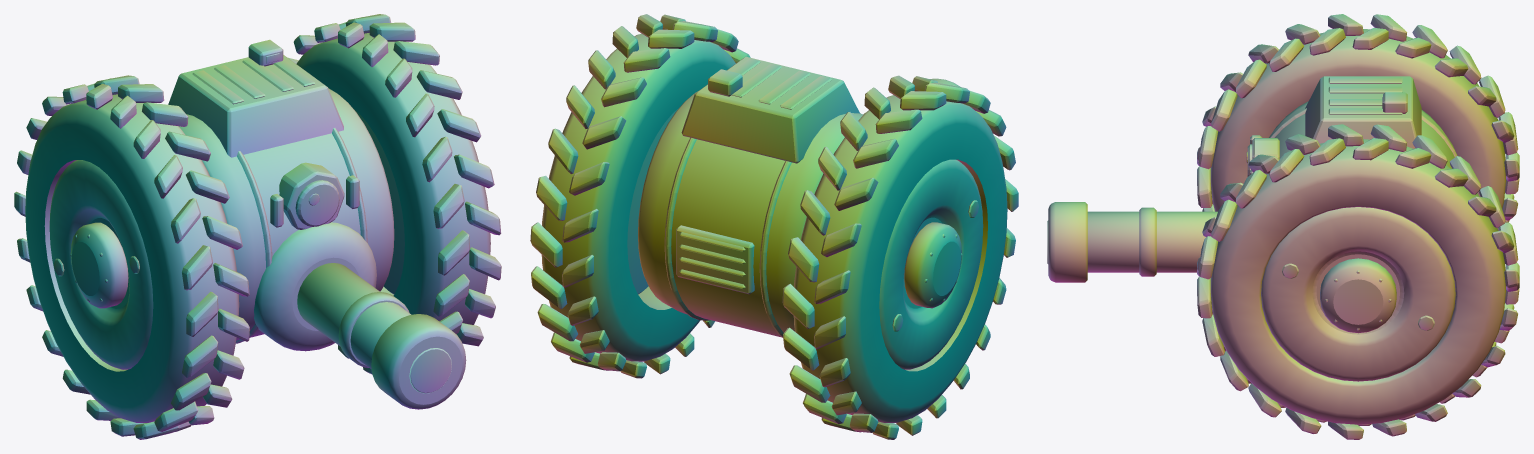
Rendered from battlewheel_rig.glb.
The picture shows the model from 3 angles, left to right: view 1: azimuth 30°, elevation 25°; view 2: azimuth 150°, elevation 25°; view 3: azimuth 270°, elevation 25°; orthographic projection. The views are drawn at different scales.
Visible parts, largest first — view 1: wheel_1, wheel_0, body, barrel; view 2: wheel_1, body, wheel_0; view 3: wheel_0, wheel_1, barrel, body.
Boxes of the visible parts, bbox=[...] form: wheel_1: bbox=[14, 75, 249, 439]; wheel_0: bbox=[288, 14, 501, 374]; body: bbox=[168, 39, 394, 343]; barrel: bbox=[254, 222, 466, 409]; wheel_1: bbox=[782, 75, 1018, 439]; body: bbox=[638, 56, 866, 337]; wheel_0: bbox=[530, 14, 750, 378]; wheel_0: bbox=[1197, 124, 1519, 439]; wheel_1: bbox=[1197, 14, 1519, 230]; barrel: bbox=[1047, 202, 1217, 282]; body: bbox=[1246, 76, 1457, 176].
Bounding box in the file's own units: 7.26 × 6.56 × 9.6.
